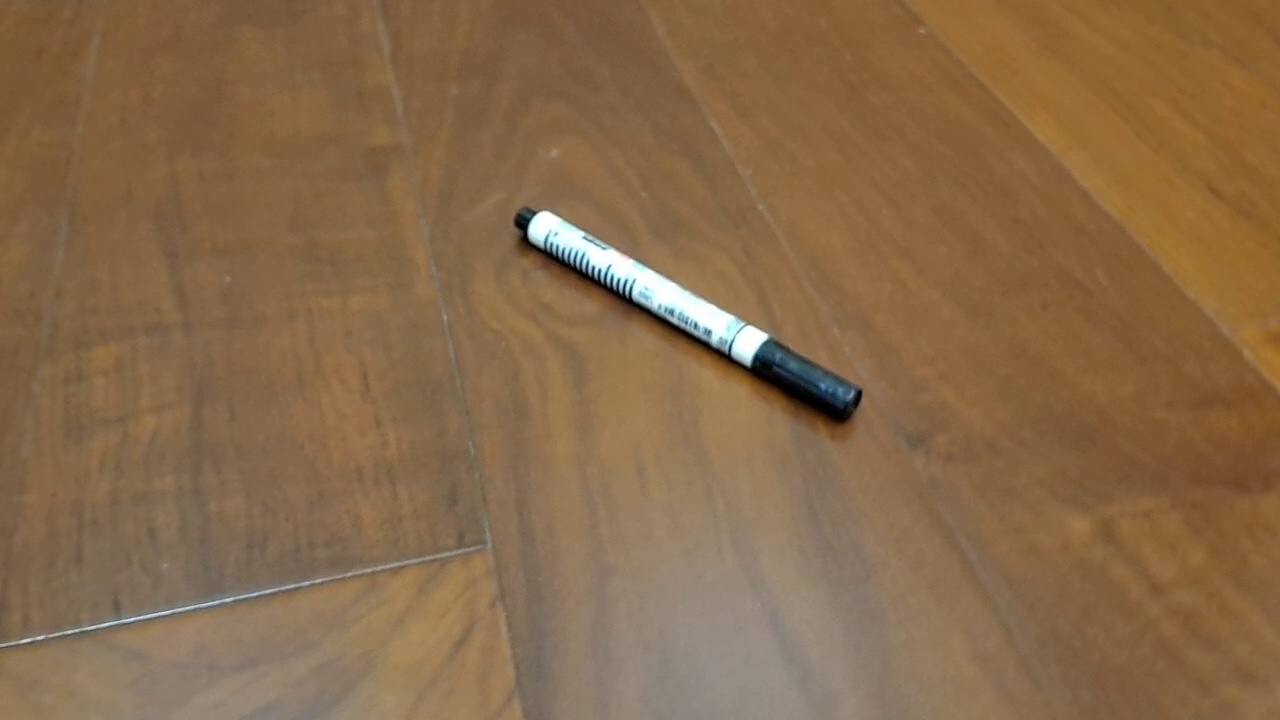pen: (513, 205, 863, 424)
